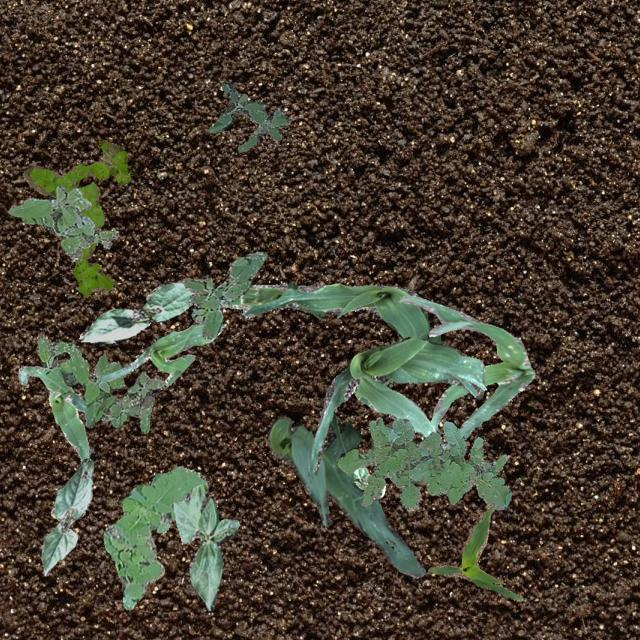crop: (266, 410, 424, 578), (306, 336, 486, 482), (399, 294, 534, 448), (223, 282, 439, 344), (428, 504, 522, 600), (172, 484, 238, 610), (100, 322, 214, 386), (78, 280, 194, 342), (16, 366, 90, 462), (38, 458, 92, 574), (352, 466, 384, 496)
weed: (21, 138, 130, 296), (337, 416, 510, 509), (102, 466, 206, 610), (35, 333, 164, 432), (7, 184, 117, 260), (182, 250, 266, 338), (208, 80, 290, 152)
